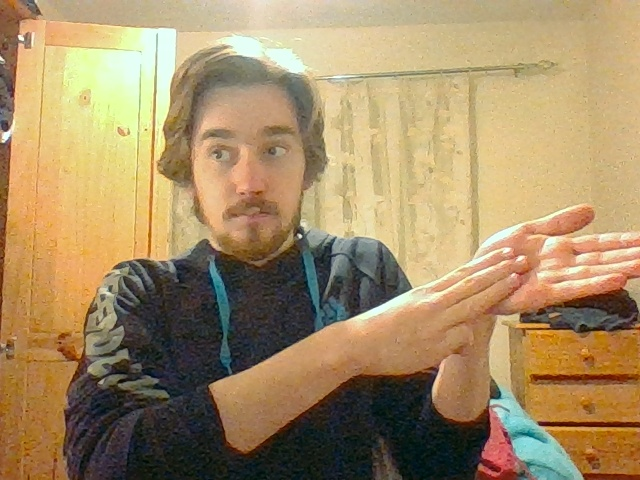mother: (443, 203, 640, 316)
